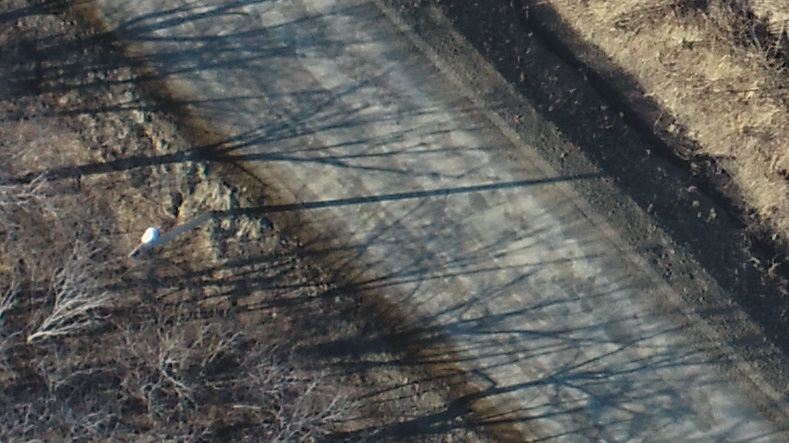opora: (124, 195, 305, 262)
